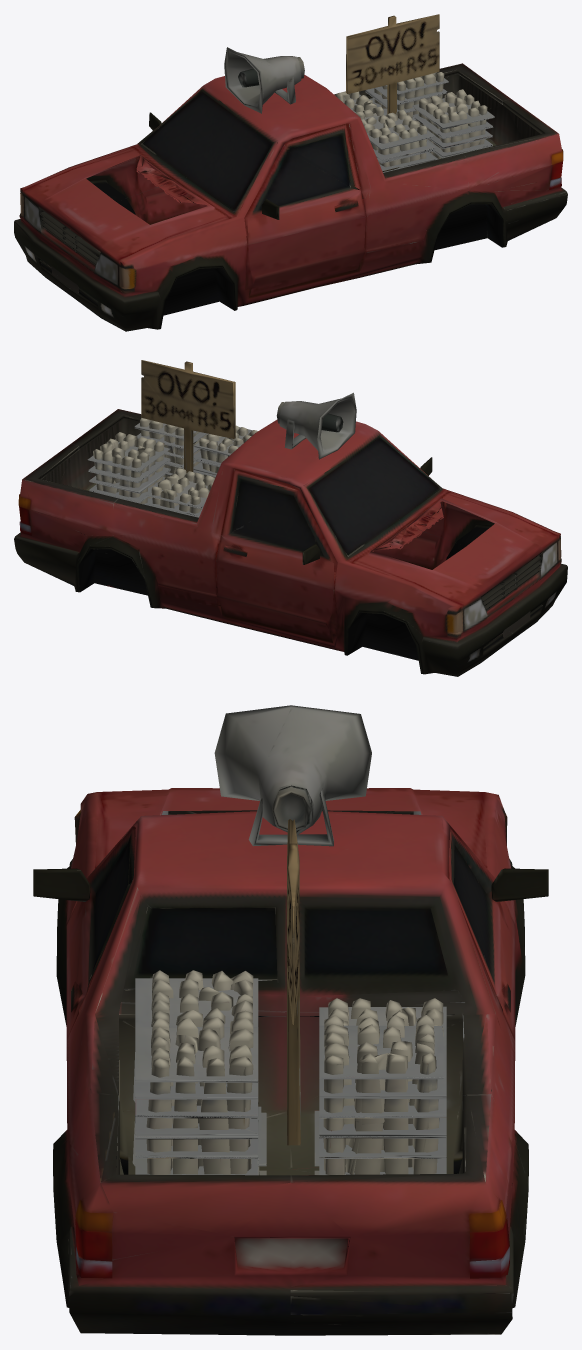
The model's file is ovo.glb.
3 renders of one model, top to bottom at view 1: azimuth 30°, elevation 25°; view 2: azimuth 150°, elevation 25°; view 3: azimuth 270°, elevation 25°, orthographic. The views are drawn at different scales.
Parts seen in each view (by area): view 1: geometry_0; view 2: geometry_0; view 3: geometry_0.
Part boxes in pixels (box(x1,y1,x2,y2)): geometry_0: box(14, 14, 567, 331); geometry_0: box(14, 360, 567, 676); geometry_0: box(33, 705, 548, 1335).
Size of the model in its own units: 0.957 by 0.4141 by 0.4731.
1 material, 1 textured.
